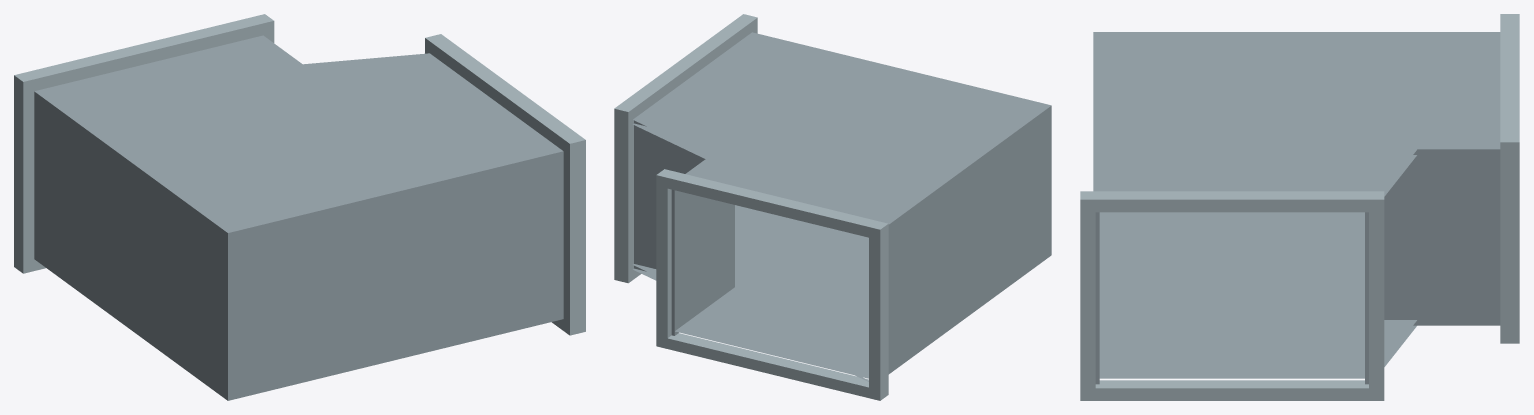
Rendered from 01_duct_rect_elbow.glb.
3 renders of one model, left to right at view 1: azimuth 30°, elevation 25°; view 2: azimuth 150°, elevation 25°; view 3: azimuth 270°, elevation 25°, orthographic. The views are drawn at different scales.
Parts seen in each view (by area): view 1: 01_duct_rect_elbow; view 2: 01_duct_rect_elbow; view 3: 01_duct_rect_elbow.
Part boxes in pixels (bbox=[...]): 01_duct_rect_elbow: bbox=[14, 14, 585, 400]; 01_duct_rect_elbow: bbox=[614, 14, 1051, 400]; 01_duct_rect_elbow: bbox=[1080, 14, 1519, 400].
Bounding box in the file's own units: 1.58 × 0.8 × 1.58.
